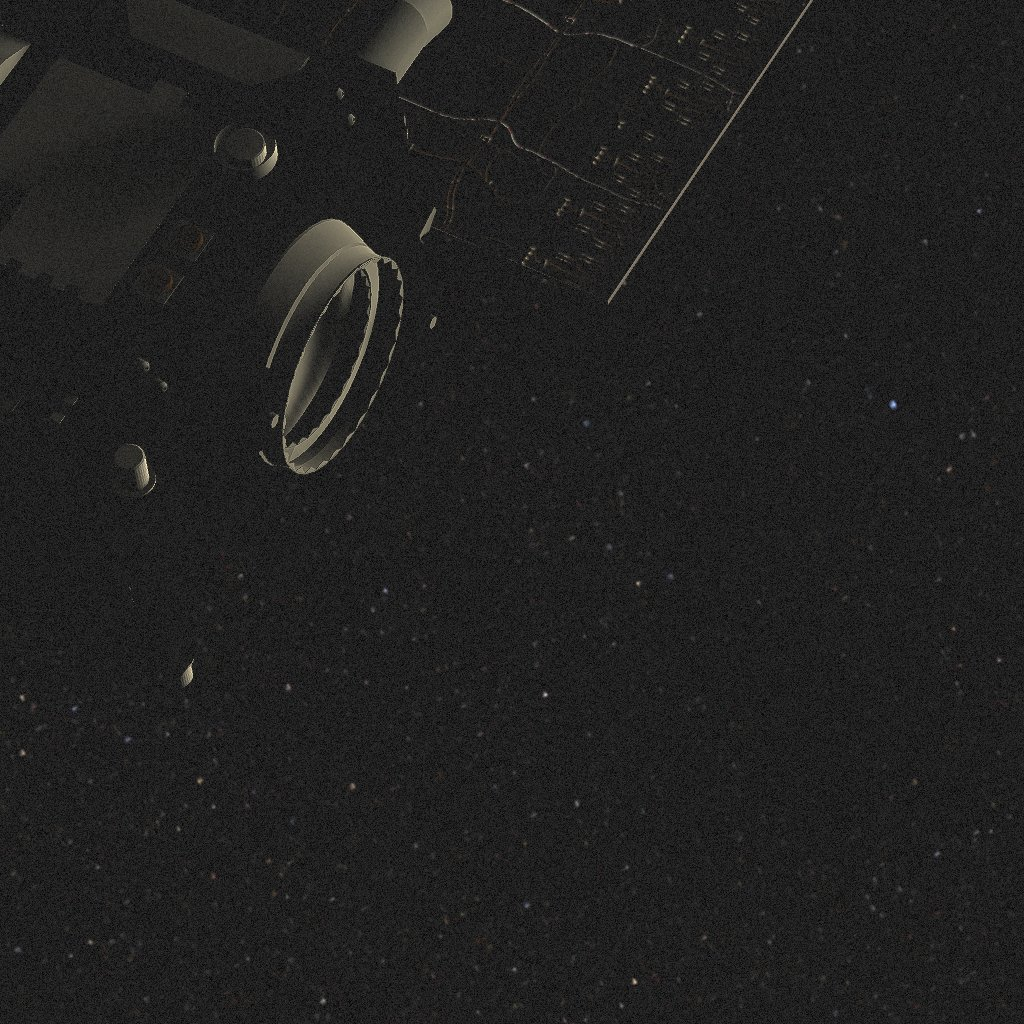proba_3_csc: (0, 0, 813, 689)
